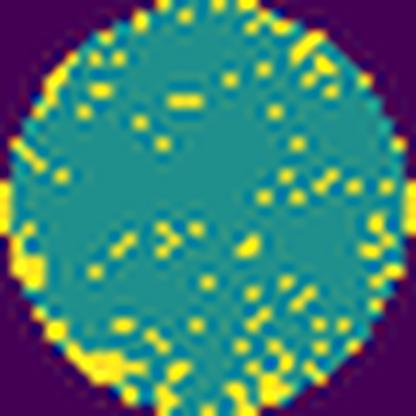Edge-Loc: (36, 301, 154, 406), (0, 181, 51, 294), (218, 357, 292, 416)
